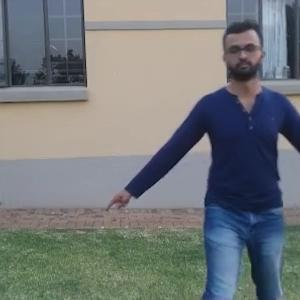land: (116, 45, 299, 300)
